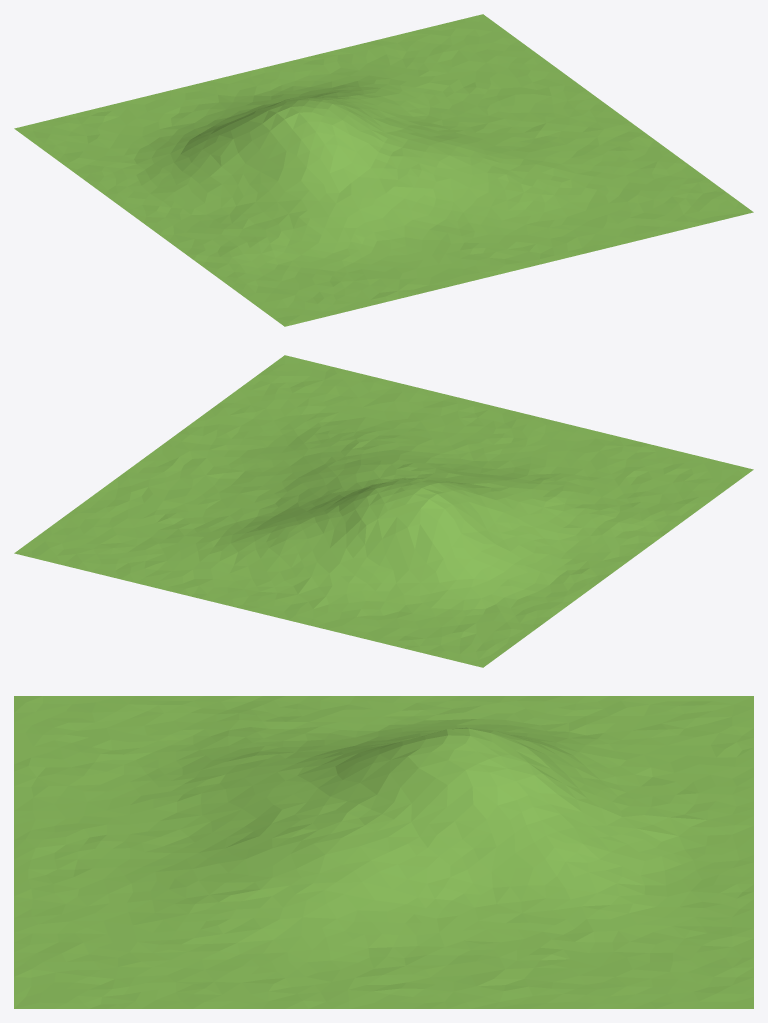
Rendered from MT_Terrain_L_a_13.fbx.
3 views of the same model, one above another, from view 1: azimuth 30°, elevation 25°; view 2: azimuth 150°, elevation 25°; view 3: azimuth 270°, elevation 25° (orthographic). The views are drawn at different scales.
Visible parts, largest first — view 1: MT_Terrain_L_a_13; view 2: MT_Terrain_L_a_13; view 3: MT_Terrain_L_a_13.
Part boxes in pixels (x1=…): MT_Terrain_L_a_13: x1=14, y1=14, x2=753, y2=326; MT_Terrain_L_a_13: x1=14, y1=355, x2=753, y2=667; MT_Terrain_L_a_13: x1=14, y1=696, x2=753, y2=1008.
Bounding box in the file's own units: 10000 × 1143 × 10000.
